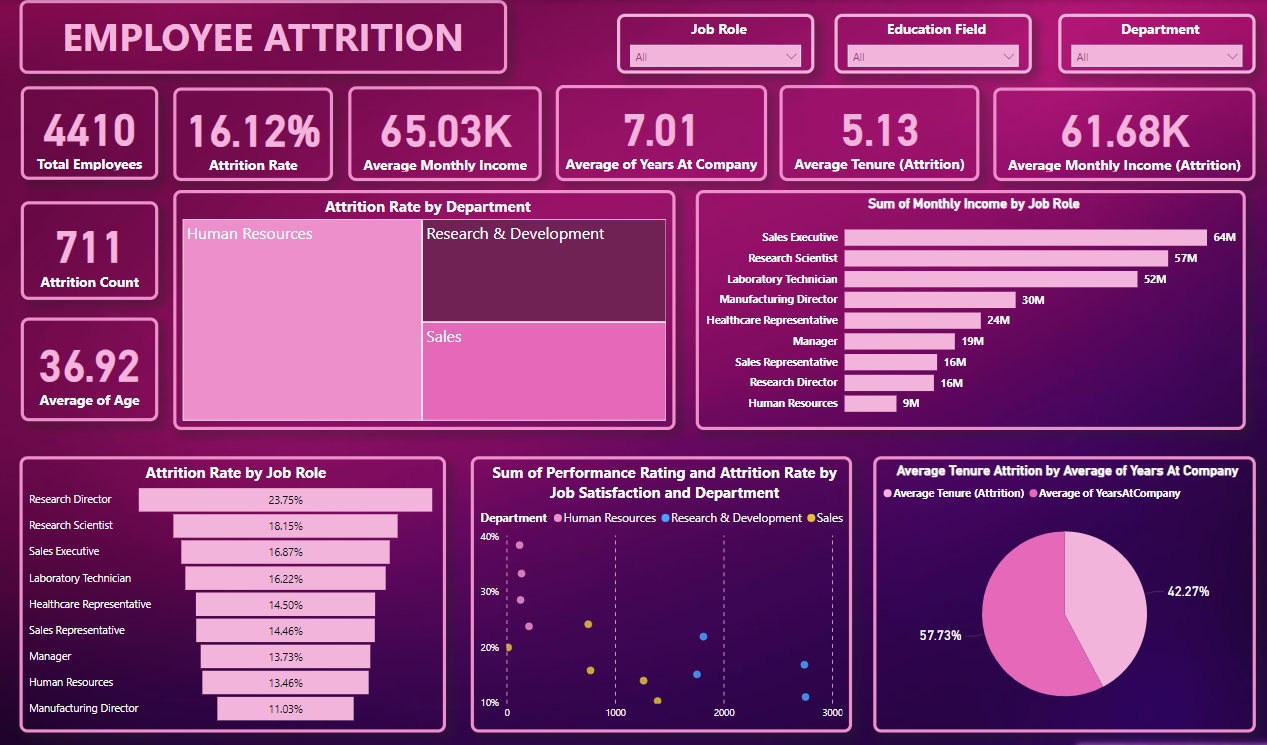

Layout of this report page (visuals, bound fields, positions):
{"tool":"powerbi","page":{"name":"Page 1","canvas":[1600,950],"ordinal":0},"visuals":[{"type":"card","fields":{"Values":["Attrition data.Average Monthly Income"]},"box":[441.4,108.4,243.5,119.4],"z":0},{"type":"card","fields":{"Values":["Attrition data.Average Monthly Income (Attrition)"]},"box":[1251.9,110,329.9,117.8],"z":1000},{"type":"card","fields":{"Values":["Avg(Attrition data.YearsAtCompany)"]},"box":[702.1,106.8,265.5,120.9],"z":2000},{"type":"card","fields":{"Values":["Attrition data.Average Tenure (Attrition)"]},"box":[983.3,106.8,251.3,120.9],"z":3000},{"type":"card","fields":{"Values":["Attrition data.Attrition Rate by Department"]},"box":[221.5,110,201.1,117.8],"z":4000},{"type":"treemap","fields":{"Values":["Attrition data.Attrition Rate"],"Group":["Attrition data.Department"]},"box":[221.5,238.8,631.5,301.6],"z":5000},{"type":"card","fields":{"Values":["Attrition data.Attrition Count"]},"box":[29.8,252.9,172.8,124.1],"z":6000},{"type":"card","fields":{"Values":["Attrition data.Total Employees"]},"box":[29.8,108.4,172.8,117.8],"z":7000},{"type":"clusteredBarChart","title":"Sum of Monthly Income by Job Role","fields":{"Category":["Attrition data.JobRole"],"Y":["Sum(Attrition data.MonthlyIncome)"]},"box":[878.1,238.8,691.1,301.6],"z":8000},{"type":"scatterChart","title":"Sum of Performance Rating and Attrition Rate by Job Satisfaction and Department","fields":{"Category":["Attrition data.JobSatisfaction"],"X":["Sum(Attrition data.PerformanceRating)"],"Series":["Attrition data.Department"],"Y":["Attrition data.Attrition Rate"]},"box":[595.3,573.3,479.1,347.1],"z":9000},{"type":"funnel","title":"Attrition Rate by Job Role","fields":{"Category":["Attrition data.JobRole"],"Y":["Attrition data.Attrition Rate"]},"box":[28.3,573.3,535.6,347.1],"z":10000},{"type":"card","fields":{"Values":["Avg(Attrition data.Age)"]},"box":[29.8,399,172.8,130.4],"z":11000},{"type":"slicer","title":"Job Role","fields":{"Values":["Attrition data.JobRole"]},"box":[779.1,17.3,248.2,75.4],"z":12000},{"type":"pieChart","title":"Average Tenure Attrition by Average of Years At Company","fields":{"Y":["Attrition data.Average Tenure (Attrition)","Avg(Attrition data.YearsAtCompany)"]},"box":[1101.1,573.3,480.7,347.1],"z":13000},{"type":"textbox","box":[28.3,0,612.6,92.7],"z":14000},{"type":"slicer","title":"Education Field","fields":{"Values":["Attrition data.EducationField"]},"box":[1052.4,17.3,248.2,75.4],"z":15000},{"type":"slicer","title":"Department","fields":{"Values":["Attrition data.Department"]},"box":[1333.6,17.3,248.2,75.4],"z":16000}]}

Visuals, with their boxes in screenshot pixels (x1, y1, x2, y2), scaled from the page's 1600x950 canvas onto the 1267x745 screenshot:
card - Attrition data.Average Monthly Income: left=350, top=85, right=542, bottom=179
card - Attrition data.Average Monthly Income (Attrition): left=991, top=86, right=1253, bottom=179
card - Avg(Attrition data.YearsAtCompany): left=556, top=84, right=766, bottom=179
card - Attrition data.Average Tenure (Attrition): left=779, top=84, right=978, bottom=179
card - Attrition data.Attrition Rate by Department: left=175, top=86, right=335, bottom=179
treemap - Attrition data.Attrition Rate x Attrition data.Department: left=175, top=187, right=675, bottom=424
card - Attrition data.Attrition Count: left=24, top=198, right=160, bottom=296
card - Attrition data.Total Employees: left=24, top=85, right=160, bottom=177
"Sum of Monthly Income by Job Role" clusteredBarChart: left=695, top=187, right=1243, bottom=424
"Sum of Performance Rating and Attrition Rate by Job Satisfaction and Department" scatterChart: left=471, top=450, right=851, bottom=722
"Attrition Rate by Job Role" funnel: left=22, top=450, right=447, bottom=722
card - Avg(Attrition data.Age): left=24, top=313, right=160, bottom=415
"Job Role" slicer: left=617, top=14, right=813, bottom=73
"Average Tenure Attrition by Average of Years At Company" pieChart: left=872, top=450, right=1253, bottom=722
textbox: left=22, top=0, right=508, bottom=73
"Education Field" slicer: left=833, top=14, right=1030, bottom=73
"Department" slicer: left=1056, top=14, right=1253, bottom=73
